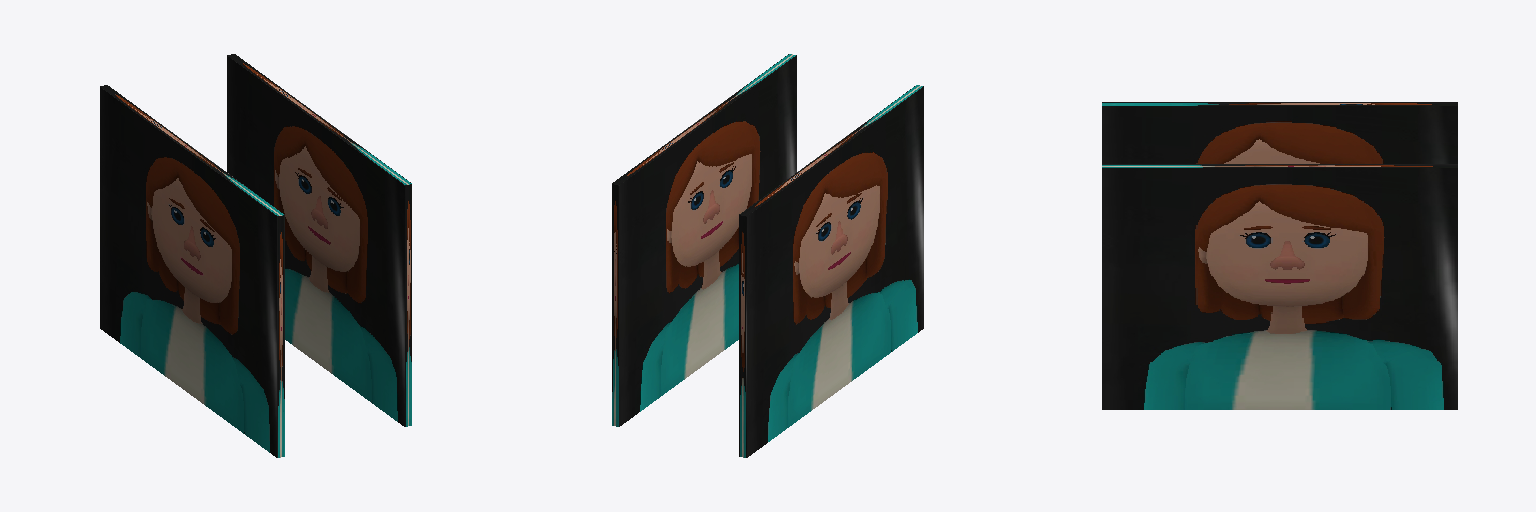
The picture shows the model from 3 angles: view 1: azimuth 30°, elevation 25°; view 2: azimuth 150°, elevation 25°; view 3: azimuth 270°, elevation 25°; orthographic projection.
Bounding box in the file's own units: 21.22 × 36.23 × 48.34.
1 materials, 1 textured.